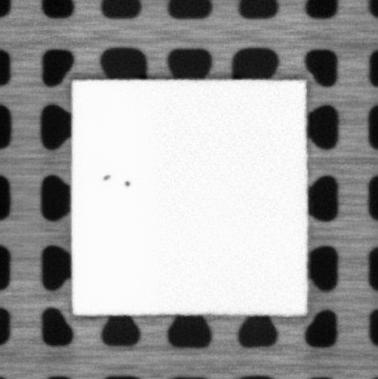DIE_INK: (101, 172, 112, 182), (124, 179, 131, 188)
